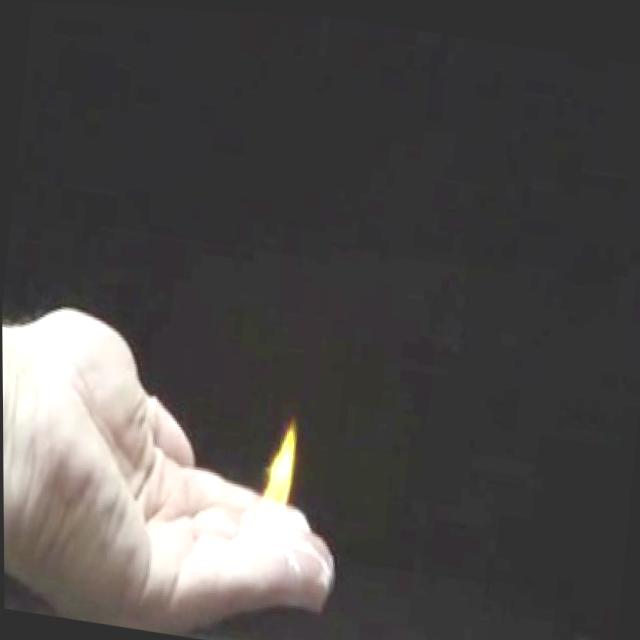helmet: (251, 406, 300, 529)
